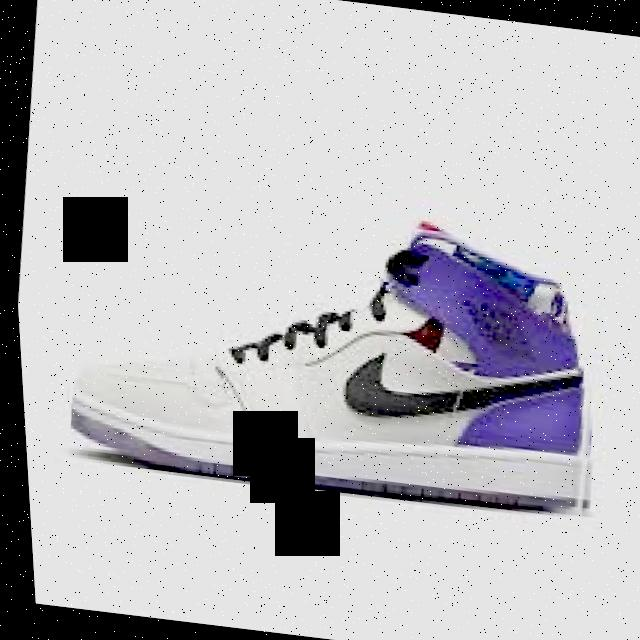shoe: (49, 176, 621, 523)
